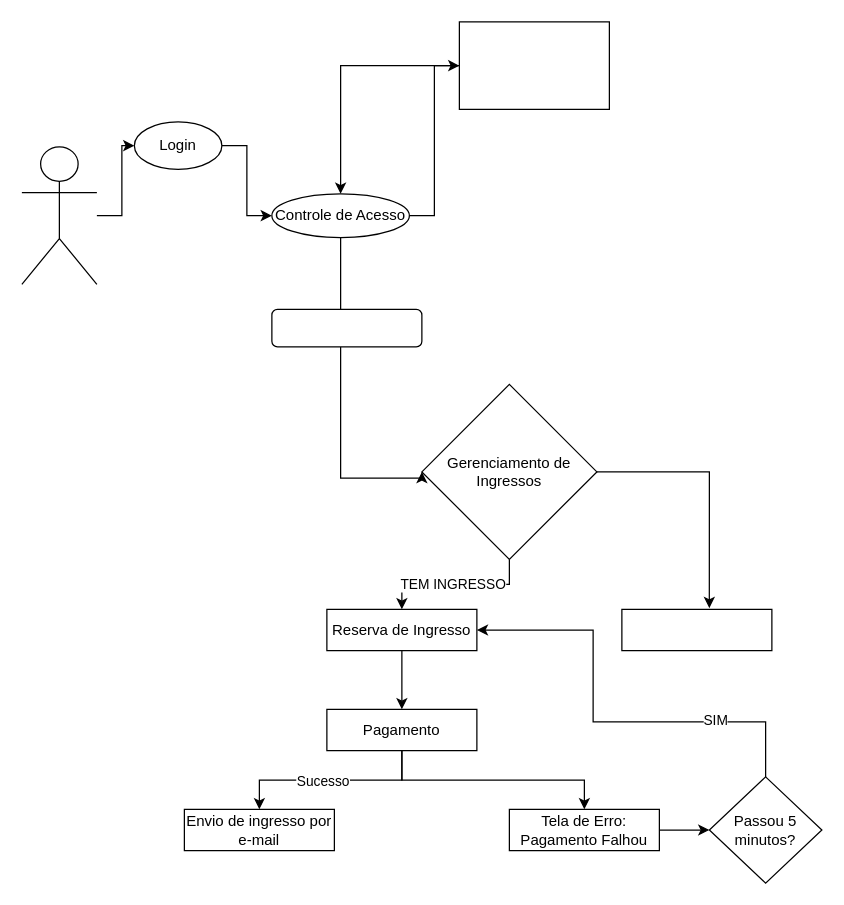
This 844x905 diagram has some shape labels left out. Here are the shapes that lost their labels. From the top down, the centre of each, then its label:
At [533,65]: "Fila de Espera para Acessos Concorrentes".
At [59,215]: "Cliente".
At [346,327]: "Tempo de sessão (15 minutos)".
At [696,629]: "Tela de Erro: Ingresso Esgotado".
